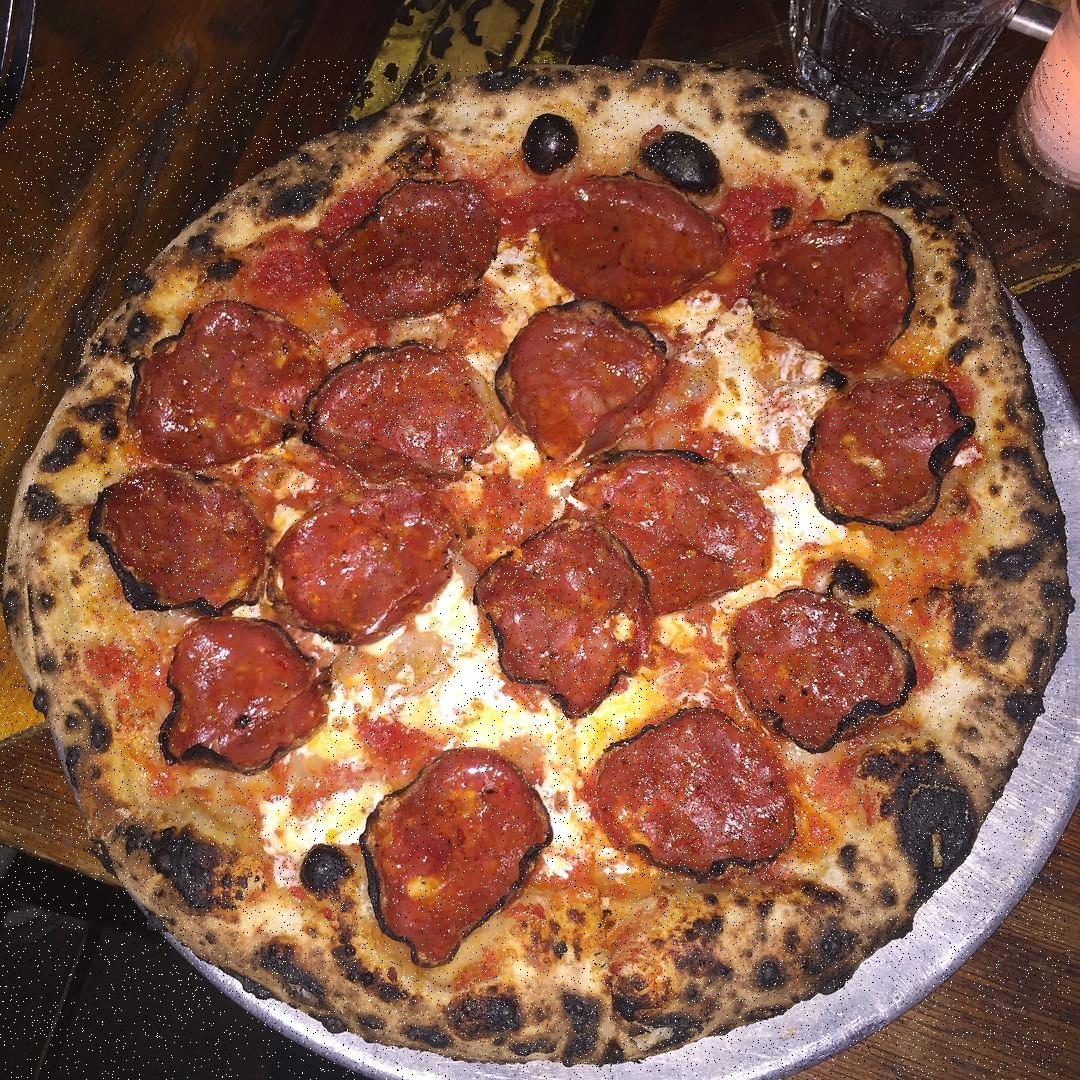Pepperoni: (358, 748, 554, 971), (474, 520, 654, 718), (596, 710, 799, 883), (563, 454, 774, 614), (728, 588, 916, 752), (264, 490, 456, 650), (127, 301, 302, 465), (802, 377, 976, 535), (302, 347, 495, 489), (752, 210, 914, 377), (495, 311, 674, 461), (84, 464, 263, 614), (538, 173, 731, 312), (161, 616, 327, 773), (327, 180, 495, 326)
Pizza: (0, 60, 1070, 1080)
